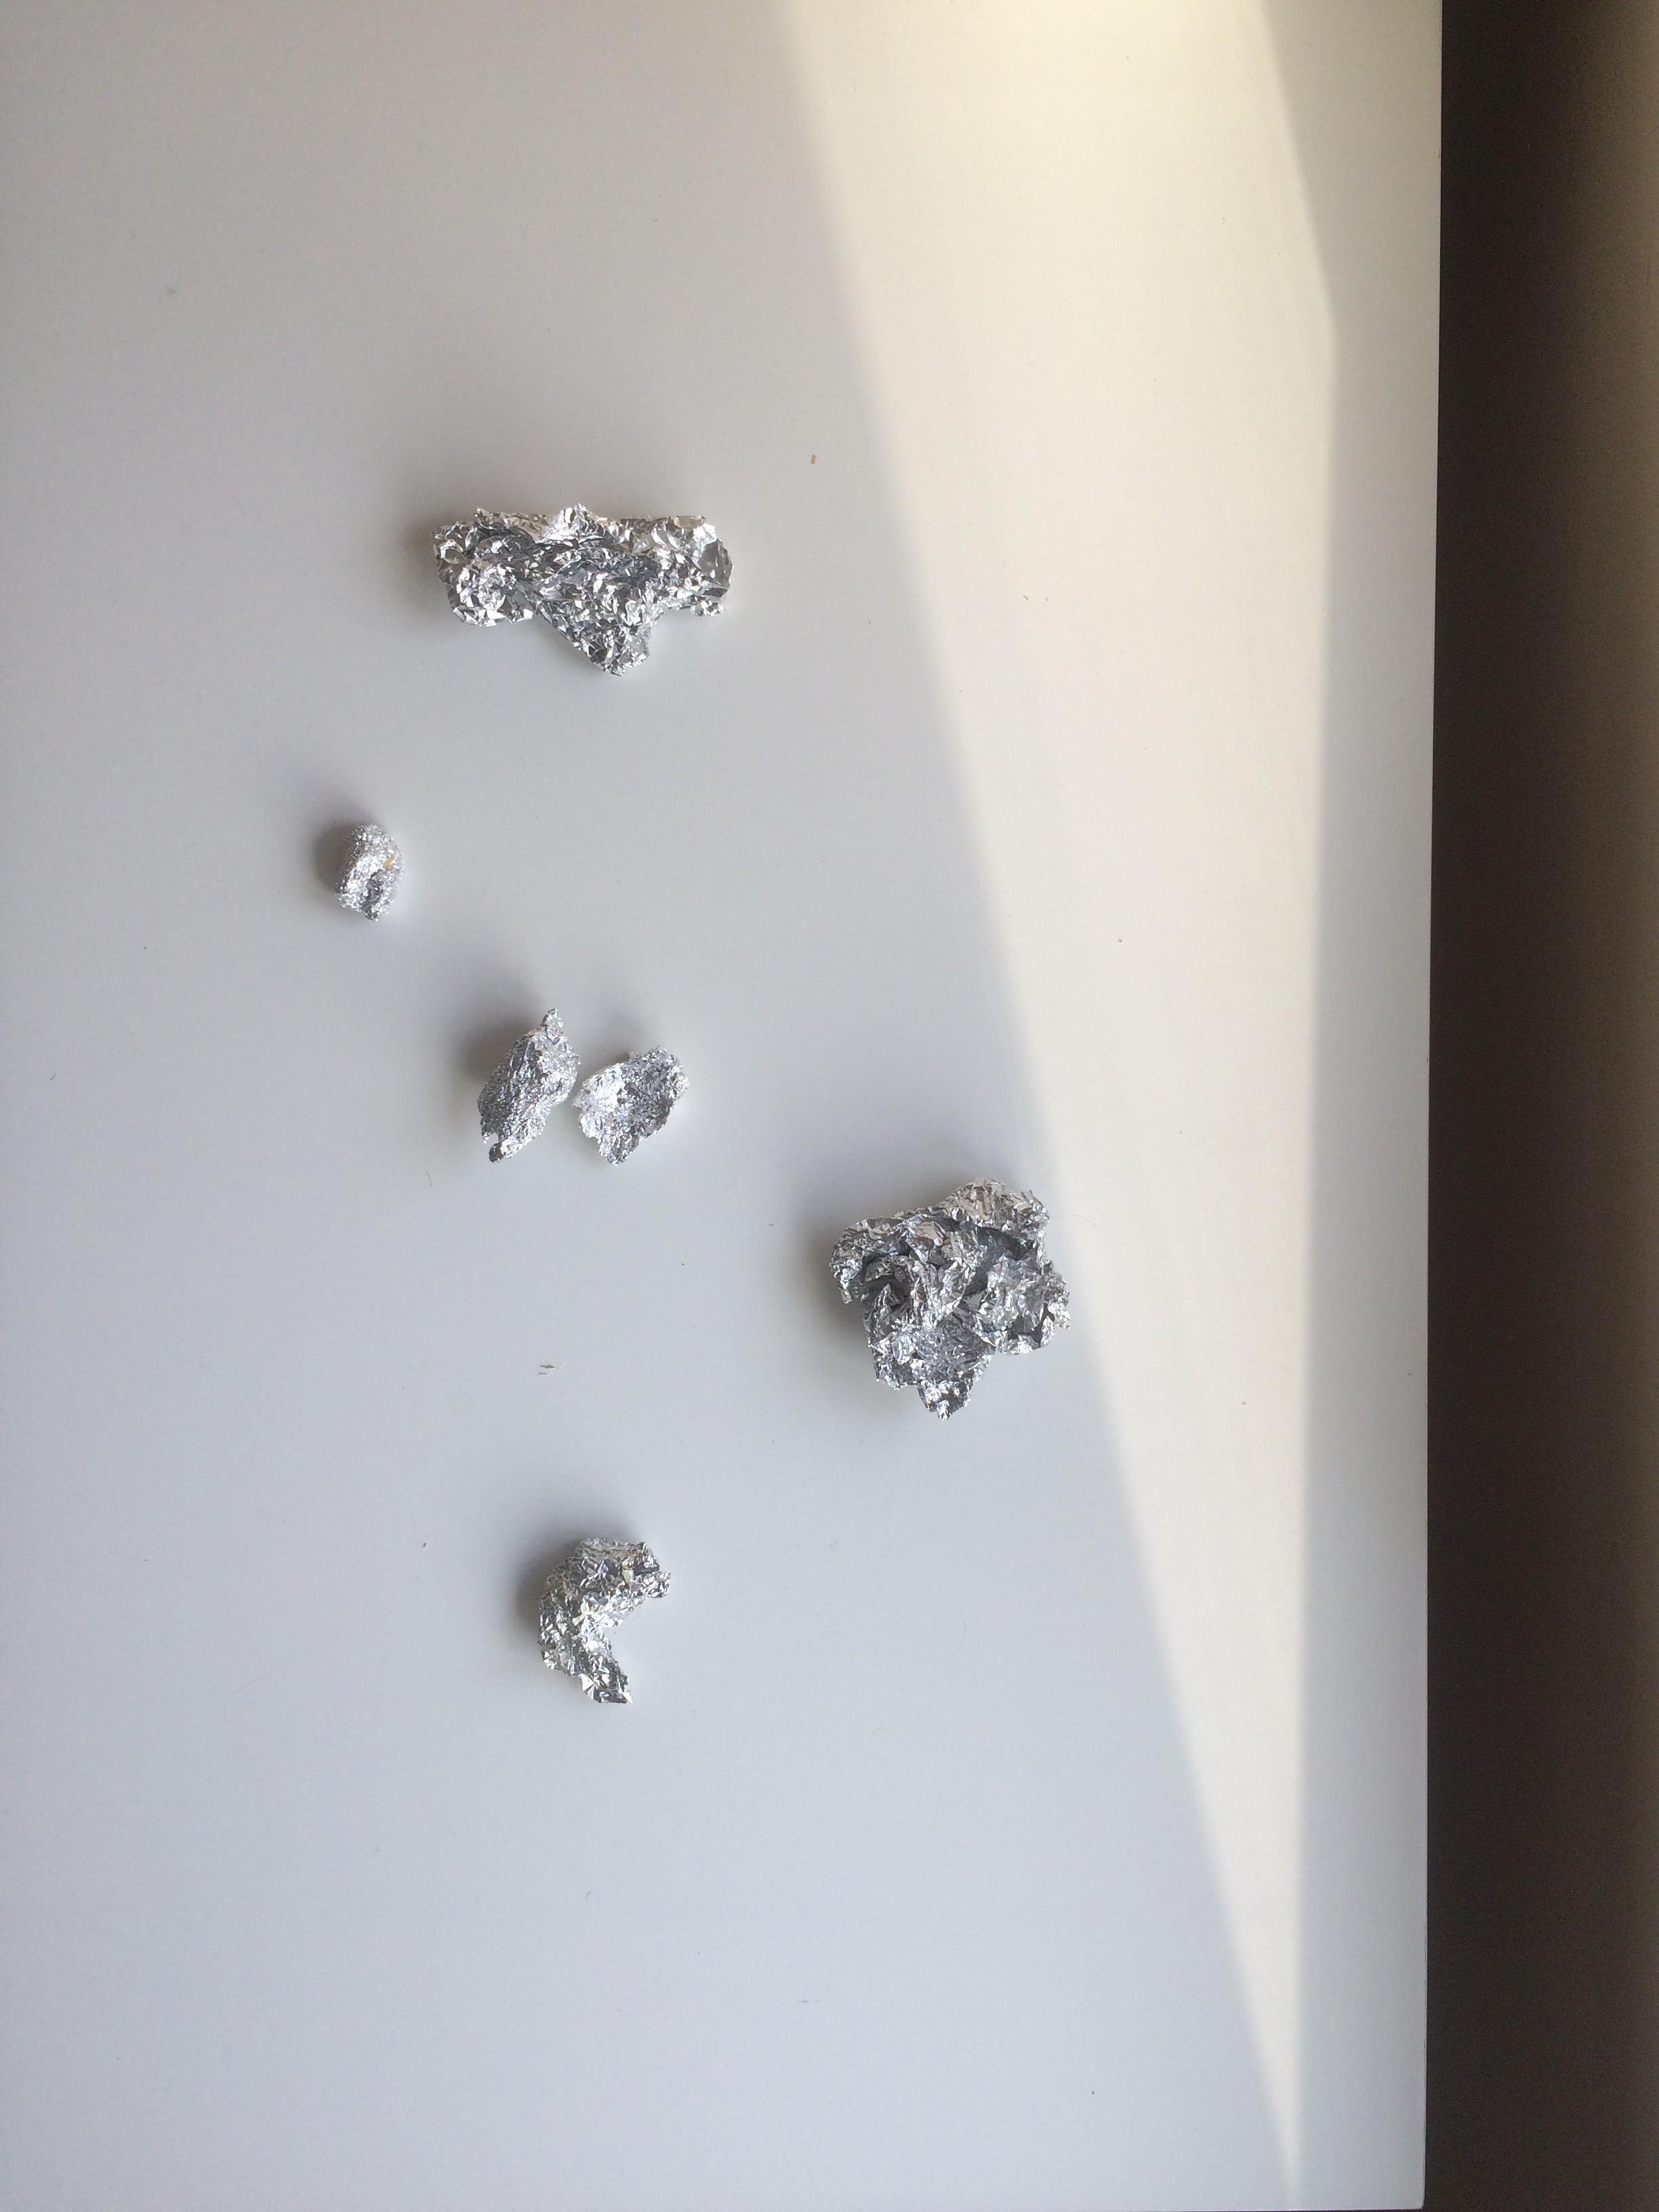Trash: (821, 1190, 1089, 1418), (432, 502, 737, 678), (525, 1526, 657, 1698), (573, 1042, 685, 1170), (472, 1021, 561, 1165), (328, 826, 399, 925)
